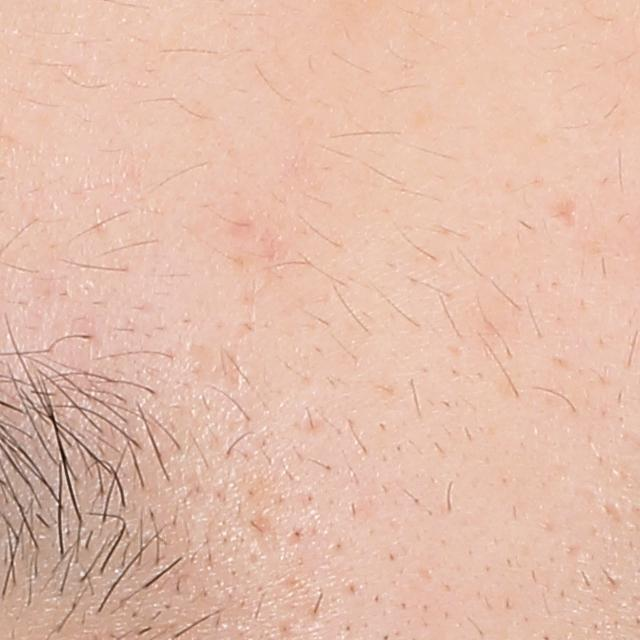atrophic_scar: (253, 513, 282, 565), (549, 196, 581, 230)
